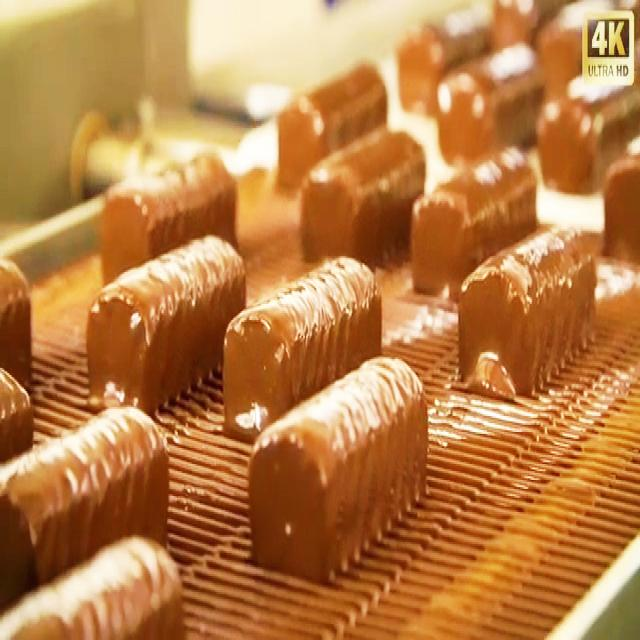Choco: (246, 350, 429, 583), (5, 405, 173, 607), (221, 251, 383, 439), (84, 230, 246, 412), (454, 215, 600, 400), (3, 538, 202, 640), (99, 146, 238, 282), (298, 123, 427, 261), (274, 54, 390, 192), (437, 38, 544, 160), (396, 10, 506, 114), (538, 88, 621, 198), (2, 242, 38, 394), (0, 351, 38, 460)
